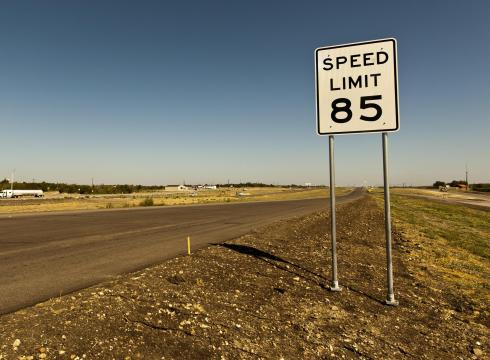speed limit: (296, 23, 417, 141)
